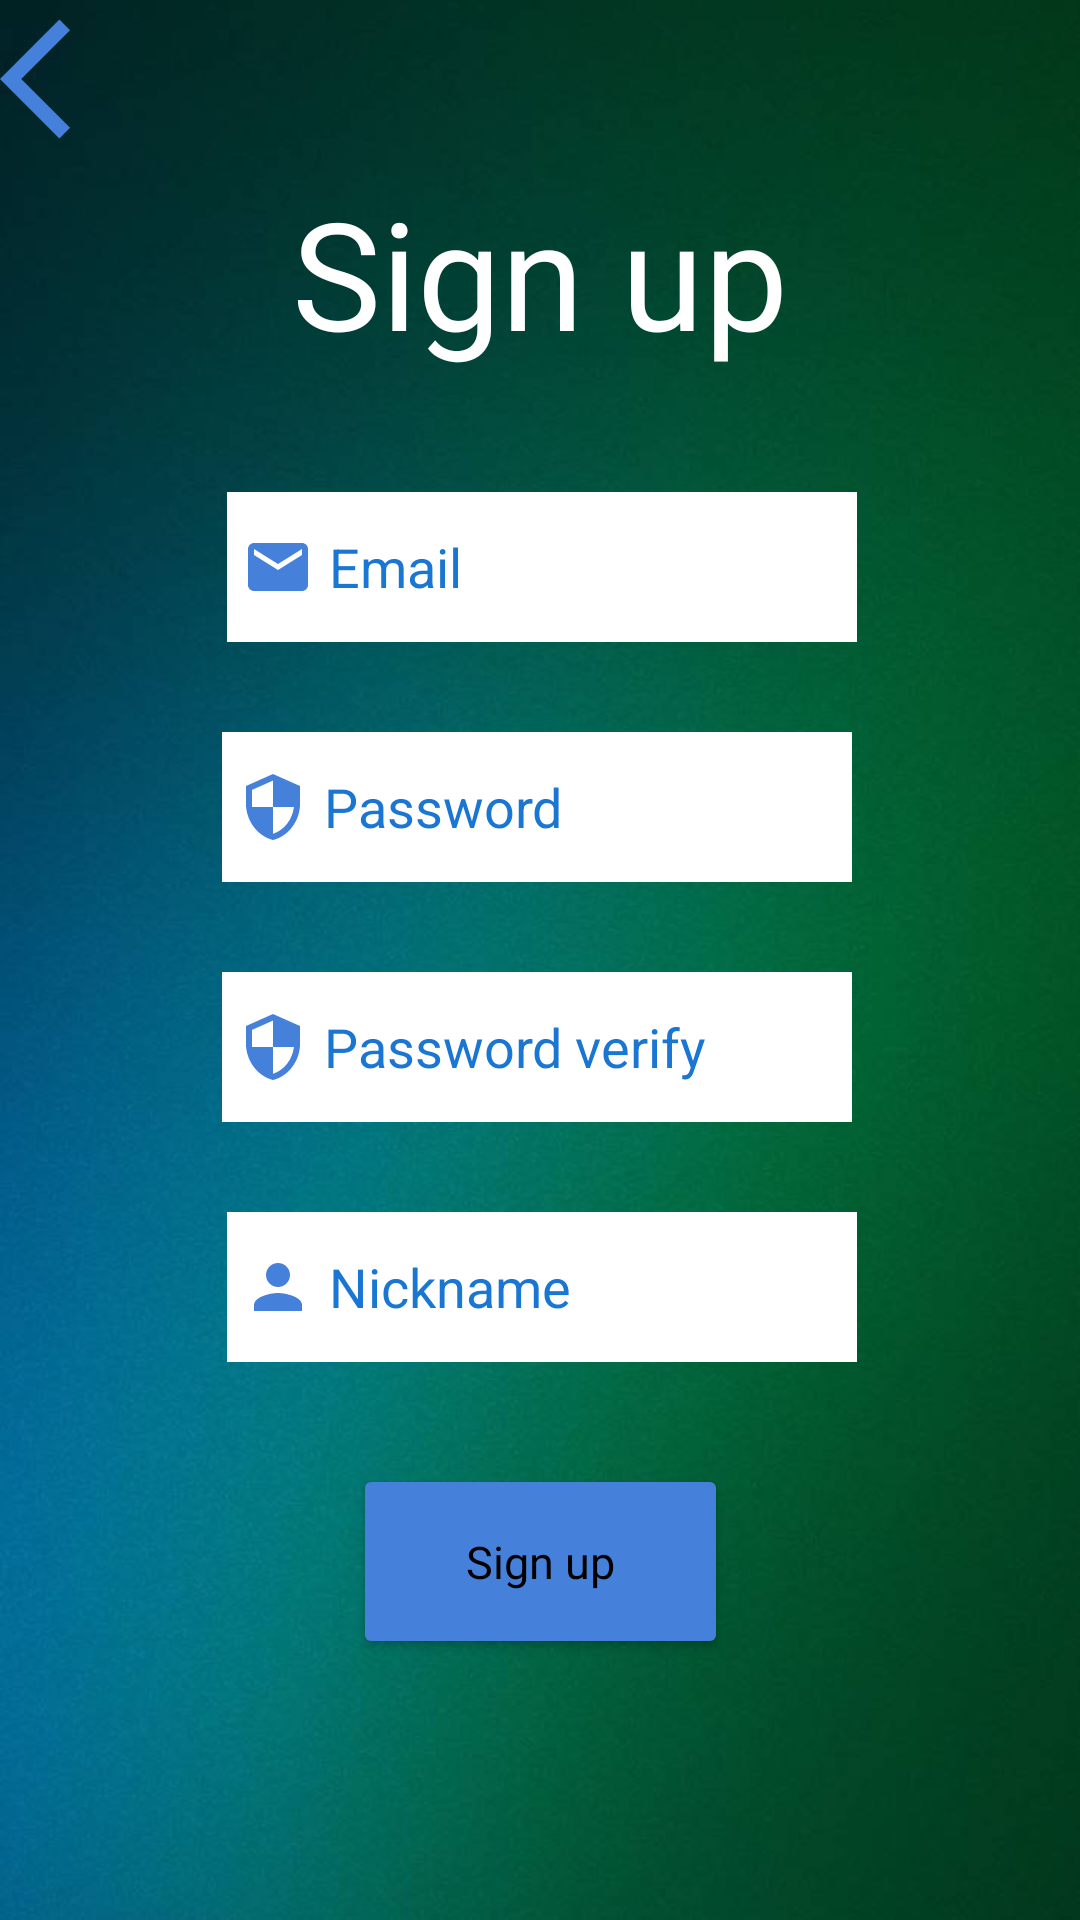

Icons on this 1080 x 1920 Android screen, each with the point to tap as (x,y):
Back button: (35,79)
